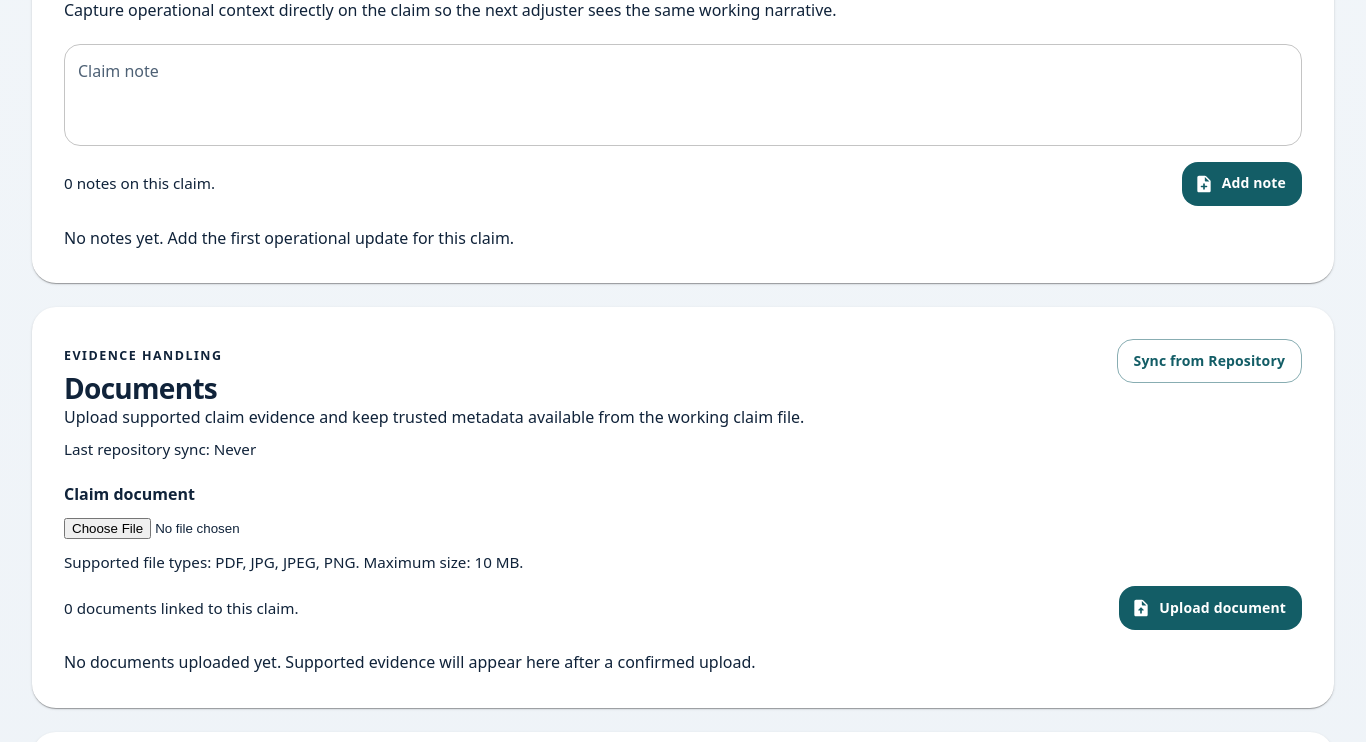
Test: Claim form › synchronizes repository documents from the edit page
(page scrolled)
Click the button "Sync from Repository": (1209, 361) x1=1117 y1=339 x2=1302 y2=383
(page scrolled)
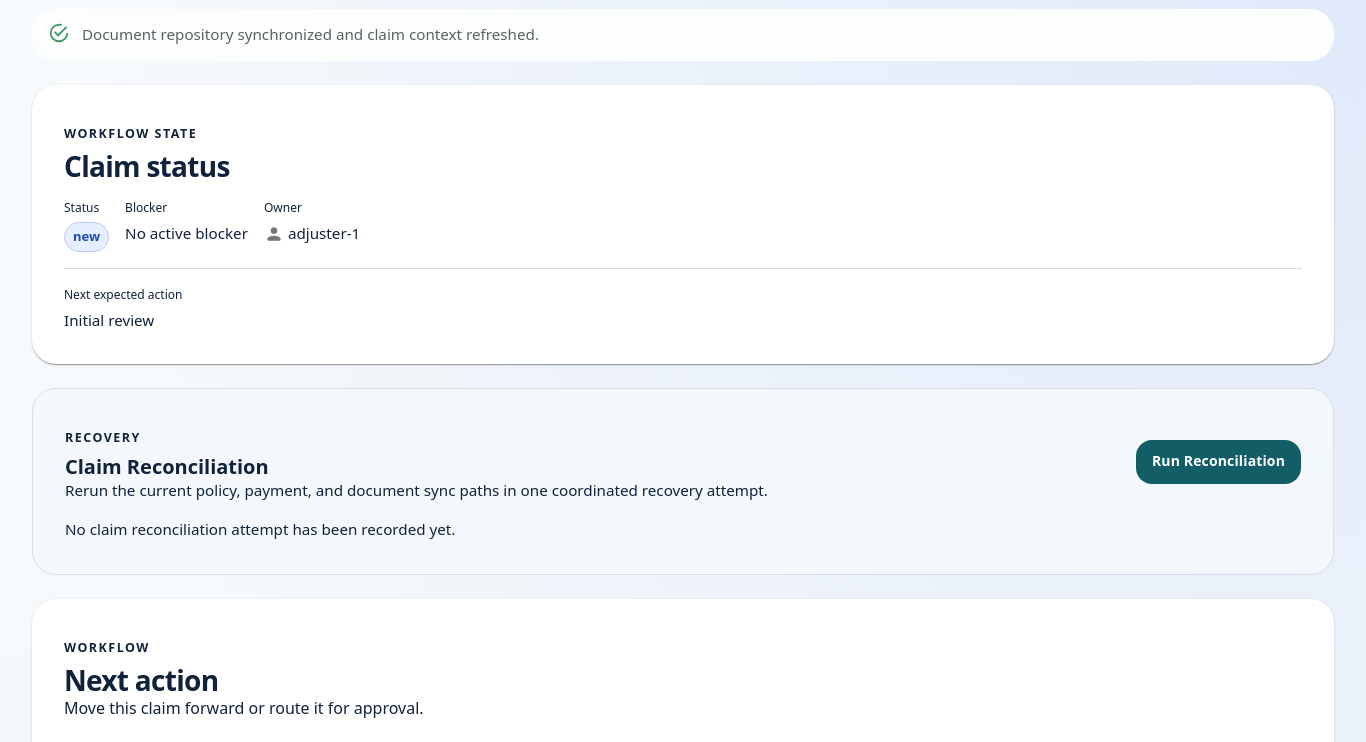
Result: the text "Document repository synchronized and claim context refreshed." is shown at x1=82 y1=24 x2=539 y2=44
